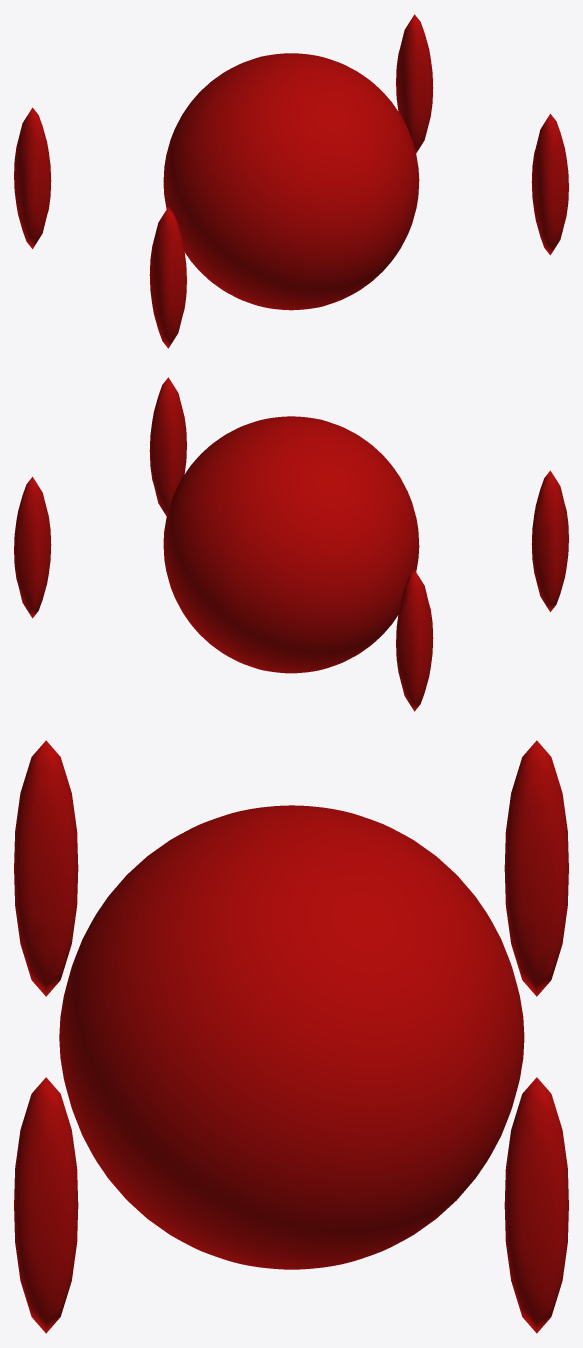
File: Canon.V3Part2.fbx
3 renders of one model, top to bottom at view 1: azimuth 30°, elevation 25°; view 2: azimuth 150°, elevation 25°; view 3: azimuth 270°, elevation 25°, orthographic. The views are drawn at different scales.
Visible parts, largest first — view 1: cANON; view 2: cANON; view 3: cANON.
Boxes of the visible parts, x1,y1,x2,y2 form: cANON: [14, 14, 568, 348]; cANON: [14, 377, 568, 711]; cANON: [14, 740, 568, 1333].
Bounding box in the file's own units: 27.05 × 14.75 × 17.6.
